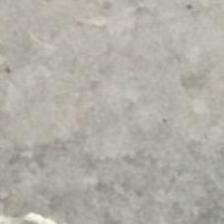Non_Crack: (14, 31, 204, 184)
